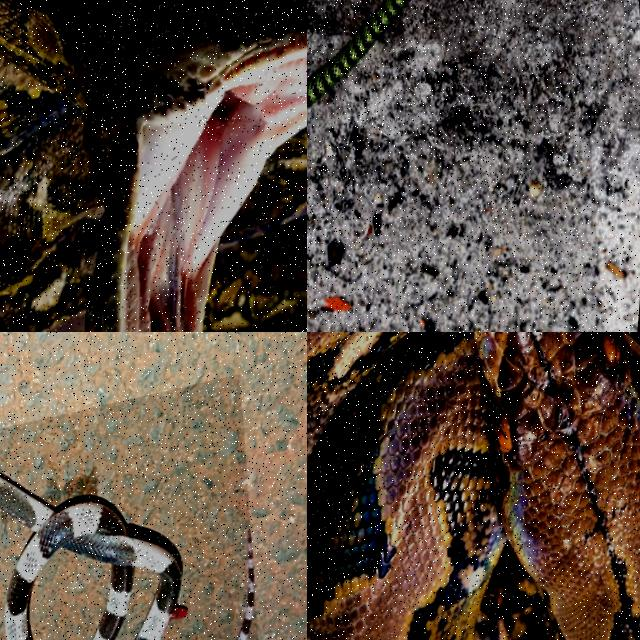Bungarus candidus: (0, 476, 180, 639)
Chrysopelea ornata: (307, 0, 409, 107)
Malayopython reticulatus: (307, 332, 639, 639), (0, 0, 306, 331)
snake: (307, 332, 639, 639), (0, 0, 306, 331), (0, 476, 180, 639), (307, 0, 409, 107)
